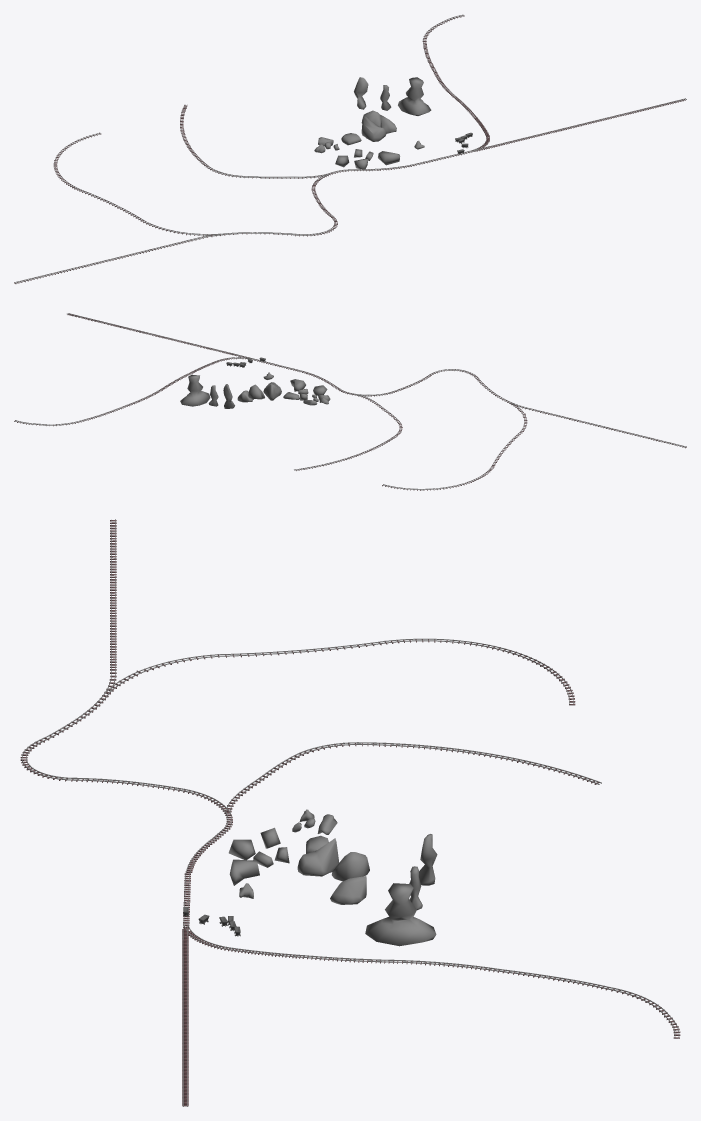
File: props for maop.fbx
3 renders of one model, top to bottom at view 1: azimuth 30°, elevation 25°; view 2: azimuth 150°, elevation 25°; view 3: azimuth 270°, elevation 25°, orthographic. The views are drawn at different scales.
Parts seen in each view (by area): view 1: Cube.037, Cube.035, Cube.012, Cube.045, Cube.042; view 2: Cube.037, Cube.035, Cube.012, Cube.045, Cube.042, Cube.044, Cube.038, Cube.028; view 3: Cube.037, Cube.035, Cube.045, Cube.042, Cube.012, Cube.028, Cube.052, Cube.038, Cube.041.
Part boxes in pixels (left/top/right/bottom): Cube.037: left=14, top=14, right=686, bottom=283; Cube.035: left=398, top=77, right=431, bottom=115; Cube.012: left=422, top=15, right=548, bottom=151; Cube.045: left=54, top=133, right=227, bottom=235; Cube.042: left=180, top=104, right=331, bottom=178; Cube.037: left=14, top=313, right=686, bottom=447; Cube.035: left=180, top=374, right=210, bottom=406; Cube.012: left=14, top=343, right=251, bottom=426; Cube.045: left=382, top=400, right=526, bottom=490; Cube.042: left=294, top=393, right=401, bottom=470; Cube.044: left=382, top=400, right=527, bottom=490; Cube.038: left=306, top=369, right=530, bottom=409; Cube.028: left=248, top=384, right=299, bottom=399; Cube.037: left=21, top=519, right=679, bottom=1106; Cube.035: left=365, top=883, right=436, bottom=946; Cube.045: left=102, top=638, right=573, bottom=704; Cube.042: left=226, top=742, right=601, bottom=814; Cube.012: left=182, top=926, right=680, bottom=1038; Cube.028: left=306, top=835, right=369, bottom=881; Cube.052: left=297, top=838, right=339, bottom=876; Cube.038: left=20, top=672, right=232, bottom=872; Cube.041: left=110, top=520, right=116, bottom=670.
Size of the model in its own units: 2307 by 126 by 1096.
